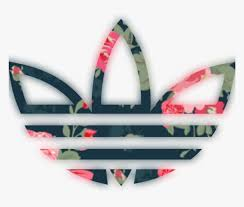adidas: (7, 20, 236, 186)
